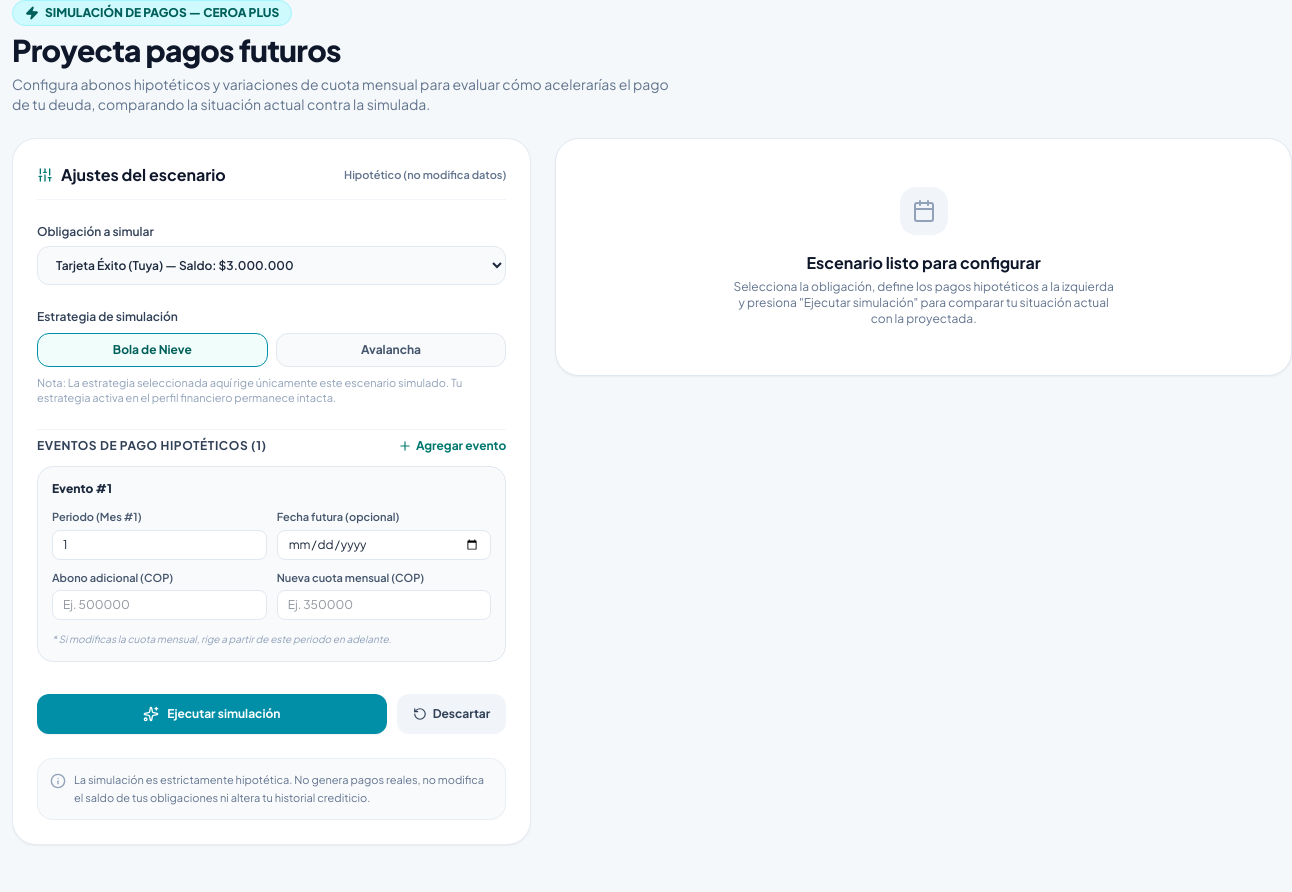
Test: EP-11 — Simulación de pagos (HU-045, HU-046, HU-047) › HU-046: Comparar situación actual contra simulada › CA-01 a CA-05: Muestra comparación Actual vs Simulado, diferencias y detalle por periodo
In the number field with placeholder "Ej. 500000": (159, 605) [52,590,267,620], type "500000"
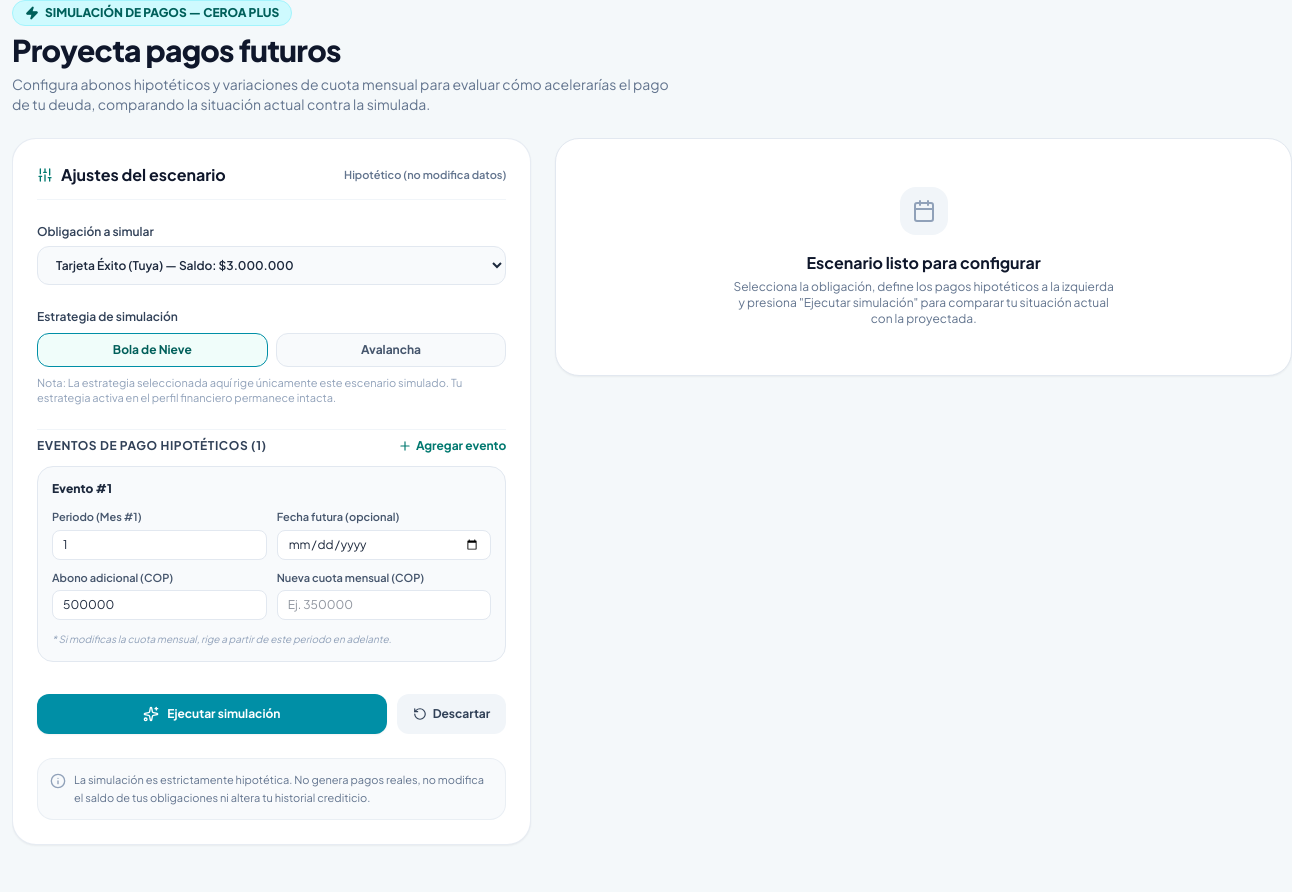
Click the button "Ejecutar simulación": (212, 714) [37,694,387,734]
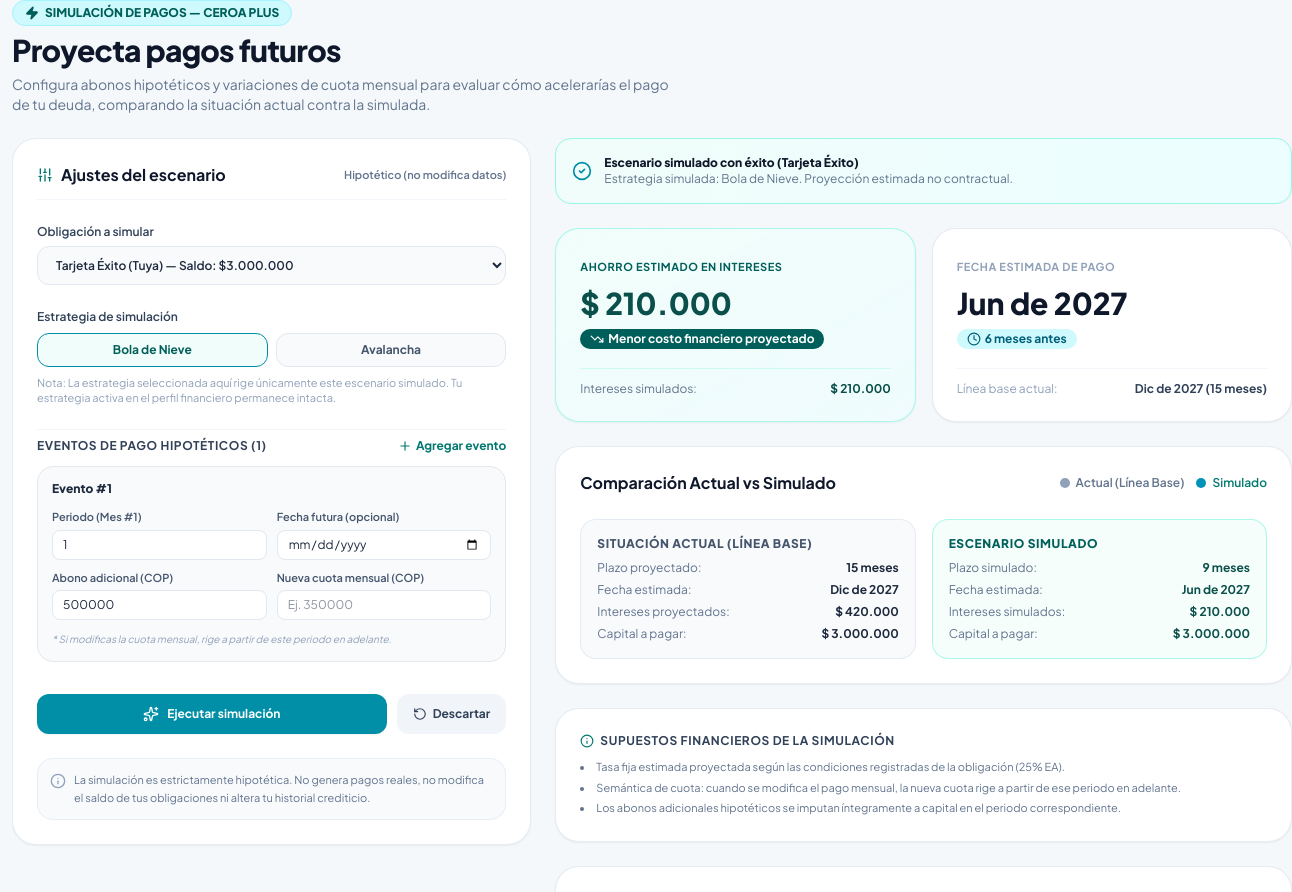
Result: the text "Escenario simulado con éxito (Tarjeta Éxito)" is shown at [604,155,859,170]
Result: the text "Ahorro Estimado en Intereses" is shown at [580,260,782,273]
Result: the text "$ 210.000" below "Ahorro Estimado en Intereses" is shown at [580,284,732,322]
